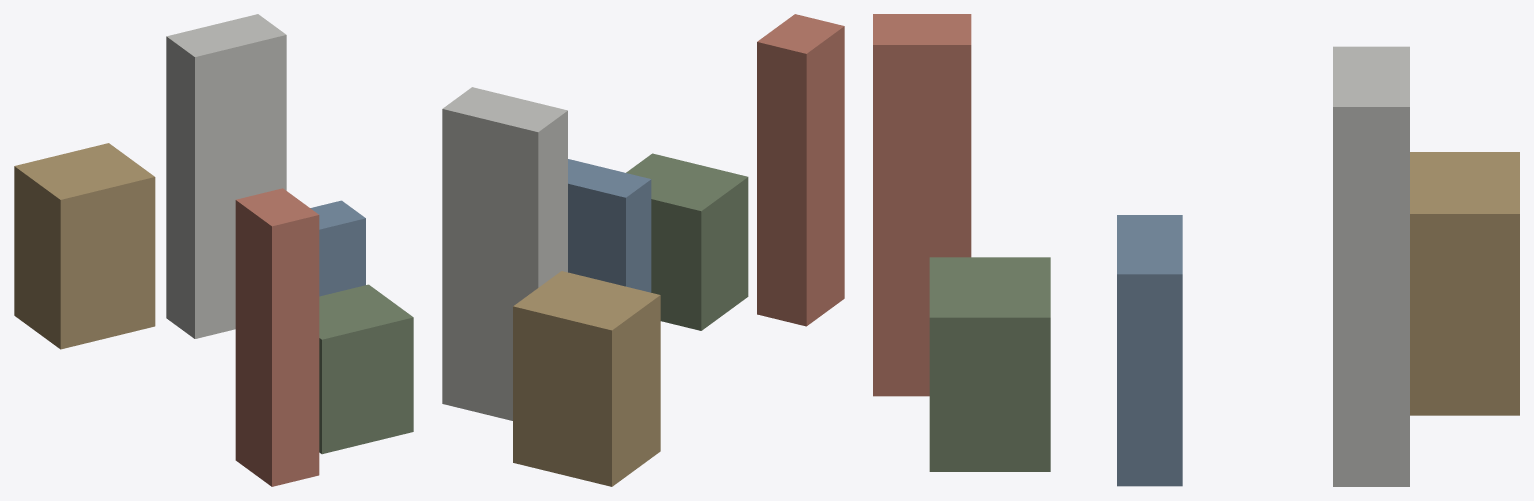
Rendered from synth-04-01.lod2.glb.
3 views of the same model, side by side, from view 1: azimuth 30°, elevation 25°; view 2: azimuth 150°, elevation 25°; view 3: azimuth 270°, elevation 25° (orthographic). The views are drawn at different scales.
Parts seen in each view (by area): view 1: synth-04-01; view 2: synth-04-01; view 3: synth-04-01.
Part boxes in pixels (x1=…): synth-04-01: x1=14, y1=14, x2=413, y2=486; synth-04-01: x1=442, y1=14, x2=844, y2=486; synth-04-01: x1=873, y1=14, x2=1519, y2=486.
Bounding box in the file's own units: 42.09 × 55.86 × 86.17.
